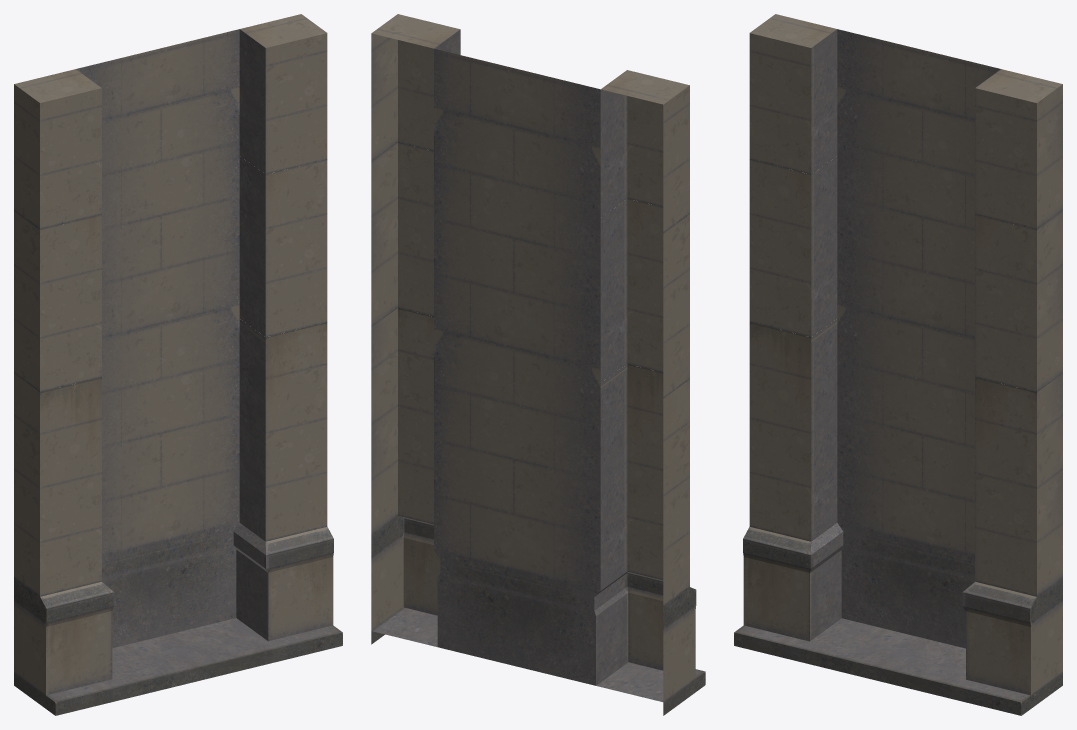
Rendered from SM_Wall03NoArch.FBX.
3 views of the same model, side by side, from view 1: azimuth 30°, elevation 25°; view 2: azimuth 150°, elevation 25°; view 3: azimuth 330°, elevation 25° (orthographic).
Visible parts, largest first — view 1: SM_Wall03NoArch; view 2: SM_Wall03NoArch; view 3: SM_Wall03NoArch.
Part boxes in pixels (x1,y1,x2,y2): SM_Wall03NoArch: [14, 14, 342, 715]; SM_Wall03NoArch: [371, 14, 705, 715]; SM_Wall03NoArch: [734, 14, 1062, 715].
Size of the model in its own units: 400 by 100 by 800.
